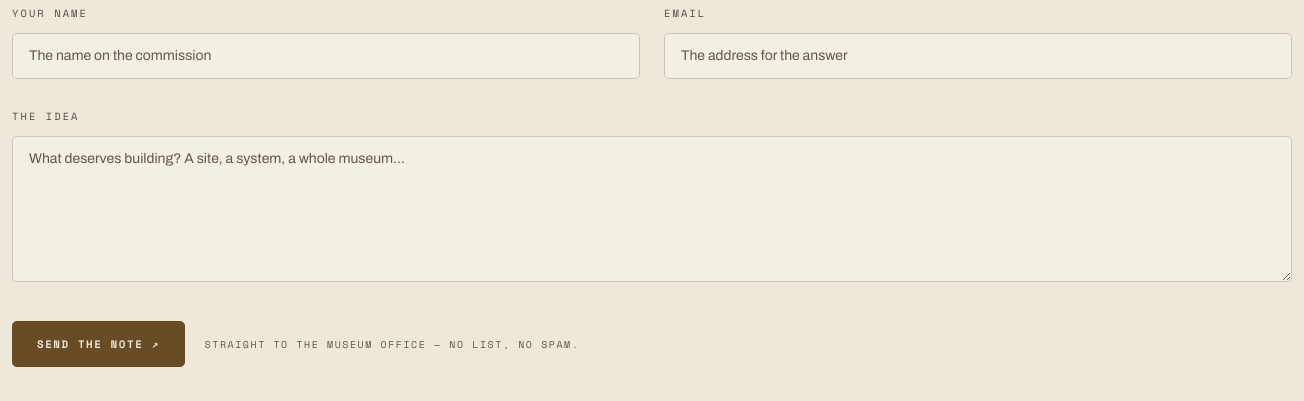
Test: ContactForm › posts to the secured API and celebrates the send
Type "Yasmine" into the field labelled "Your name". click: [326, 56]
box: [12,33,640,79]
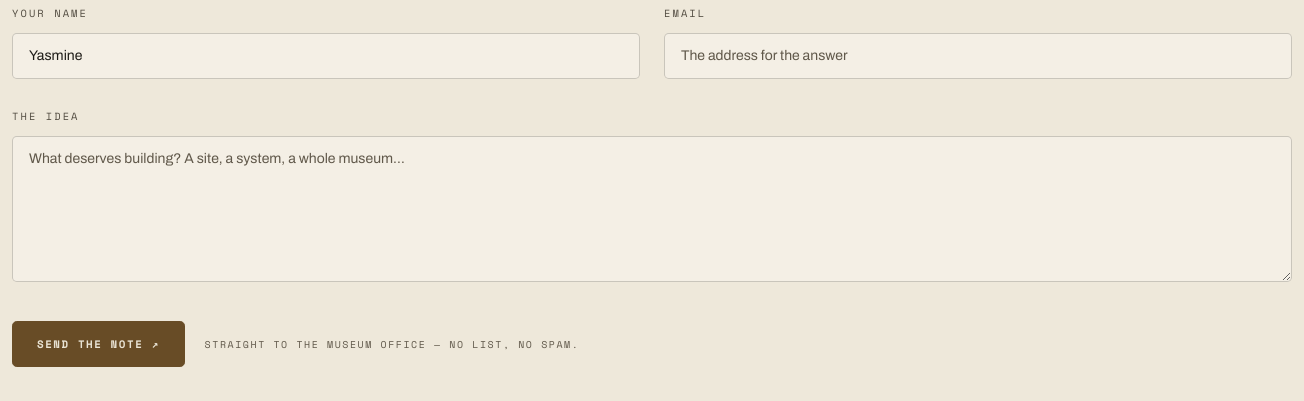
Type "yasmine@example.com" into the field labelled "Email". click: [978, 56]
box: [664,33,1292,79]
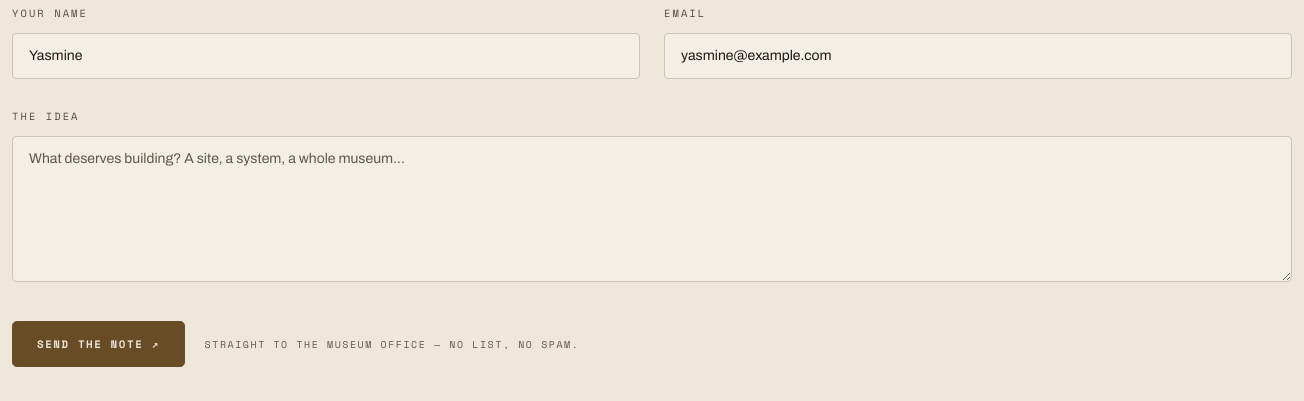
Type "A commission for a booking system." into the text box labelled "The idea". click: [652, 209]
box: [12,136,1292,282]
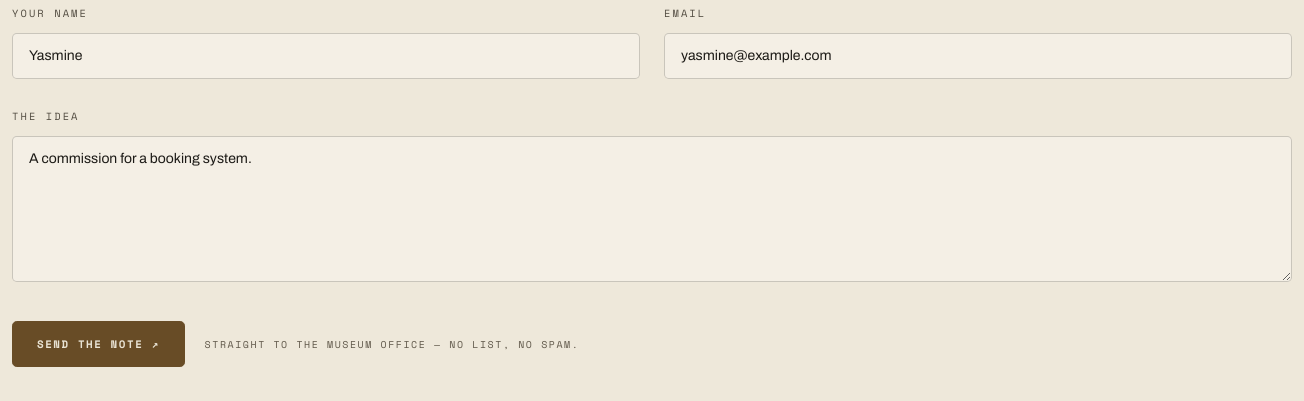
Click the button "Send the note ↗". click: [98, 344]
box: [12,321,185,367]
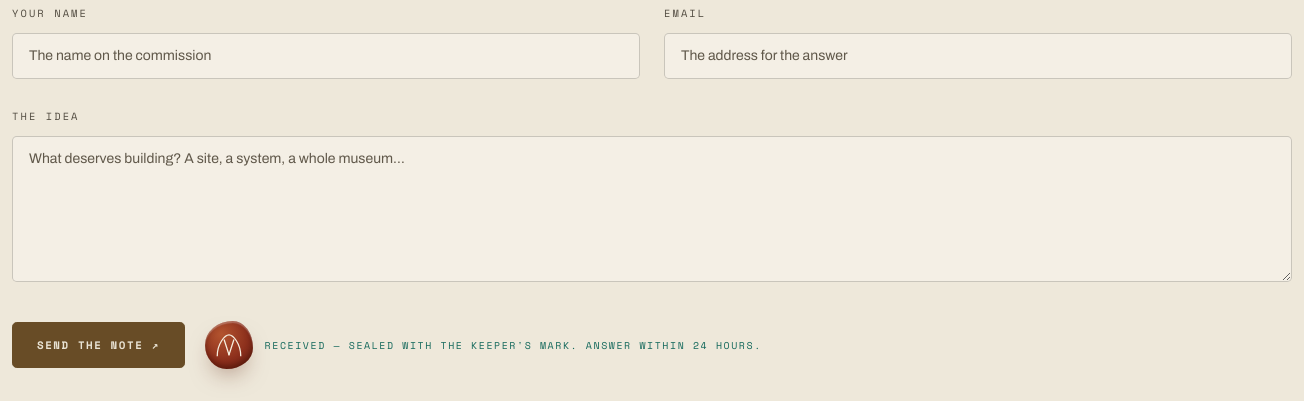
Check: the text "Received — sealed with the keeper's mark. Answer within 24 hours." is shown, box [265,338,762,353]
